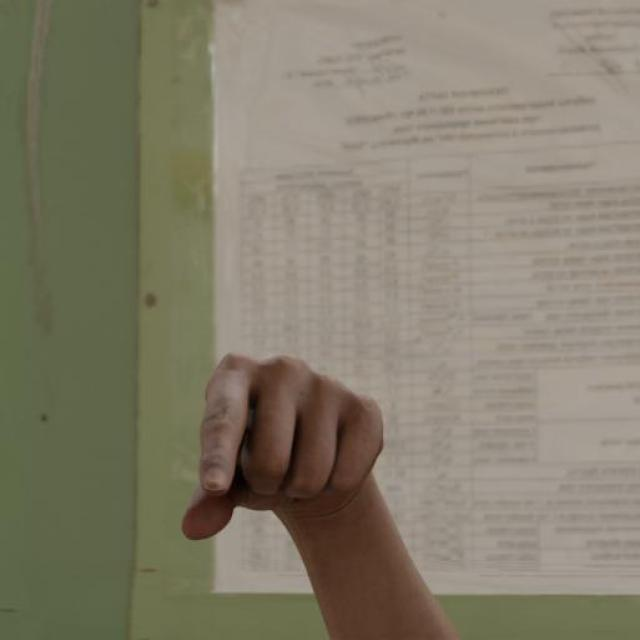Q: (178, 347, 388, 546)
